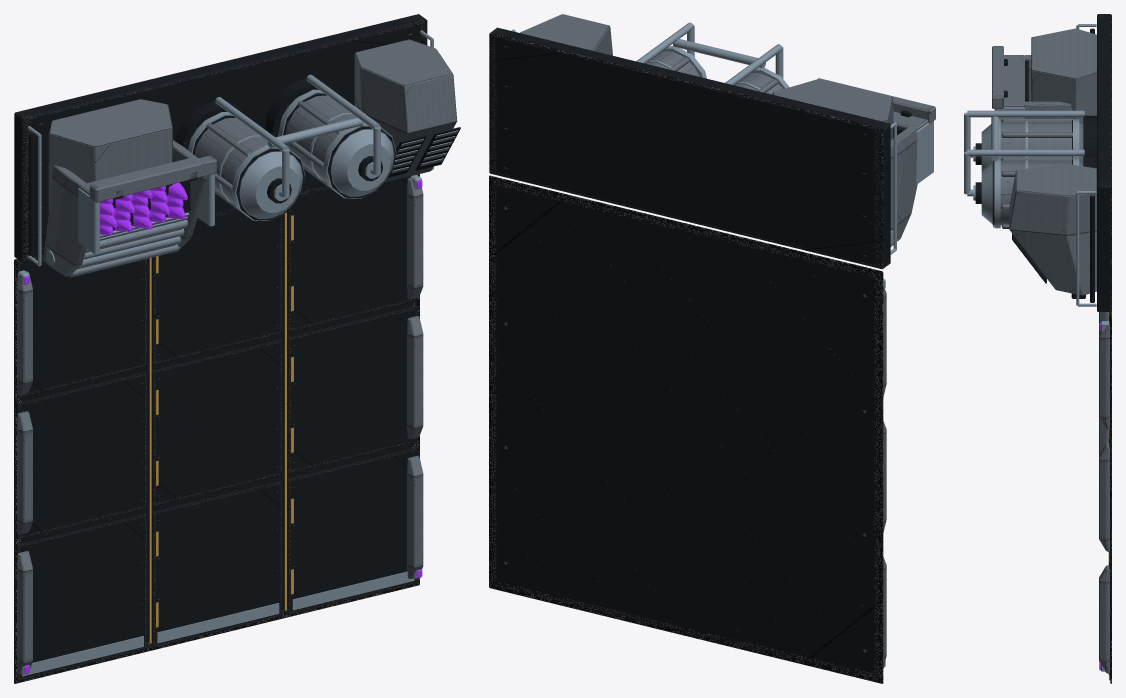
Rendered from refinery-high.glb.
3 views of the same model, side by side, from view 1: azimuth 30°, elevation 25°; view 2: azimuth 150°, elevation 25°; view 3: azimuth 270°, elevation 25° (orthographic). The views are drawn at different scales.
Visible parts, largest first — view 1: refinery-root / Ceramic graphite, refinery-root / Brushed pale alloy, refinery-root / Titanium edges, refinery-root / Ore gold / optics, refinery-root / Violet processing; view 2: refinery-root / Ceramic graphite, refinery-root / Brushed pale alloy, refinery-root / Titanium edges; view 3: refinery-root / Brushed pale alloy, refinery-root / Ceramic graphite, refinery-root / Titanium edges.
Part boxes in pixels (bbox=[...]): refinery-root / Ceramic graphite: bbox=[14, 14, 460, 683]; refinery-root / Brushed pale alloy: bbox=[17, 39, 457, 674]; refinery-root / Titanium edges: bbox=[18, 30, 458, 676]; refinery-root / Ore gold / optics: bbox=[149, 212, 293, 643]; refinery-root / Violet processing: bbox=[24, 180, 422, 673]; refinery-root / Ceramic graphite: bbox=[489, 27, 911, 683]; refinery-root / Brushed pale alloy: bbox=[520, 14, 935, 668]; refinery-root / Titanium edges: bbox=[511, 22, 933, 667]; refinery-root / Brushed pale alloy: bbox=[992, 28, 1109, 673]; refinery-root / Ceramic graphite: bbox=[975, 14, 1111, 683]; refinery-root / Titanium edges: bbox=[964, 24, 1109, 674].
Size of the model in its own units: 12 by 16.15 by 4.35.
6 materials, 2 textured.
